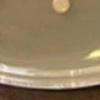white: (46, 0, 72, 16)
